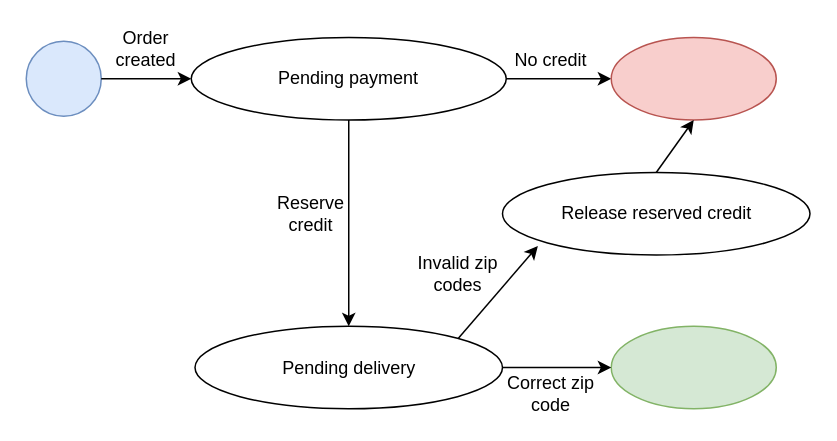
This 837x441 diagram has some shape labels left out. Each missing label, with the box of its shape:
Order approved: (610, 325, 776, 409)
Order rejected: (610, 36, 776, 120)
